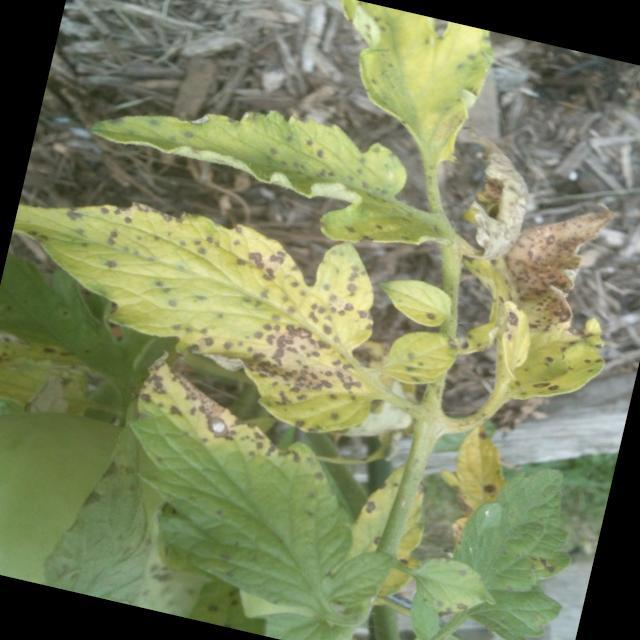Tomato Septoria spot leaf: (0, 166, 414, 449), (92, 344, 430, 638), (73, 68, 470, 270), (451, 180, 640, 424), (308, 0, 502, 173), (448, 450, 592, 609), (402, 548, 506, 622), (378, 320, 460, 398), (366, 268, 457, 334)
